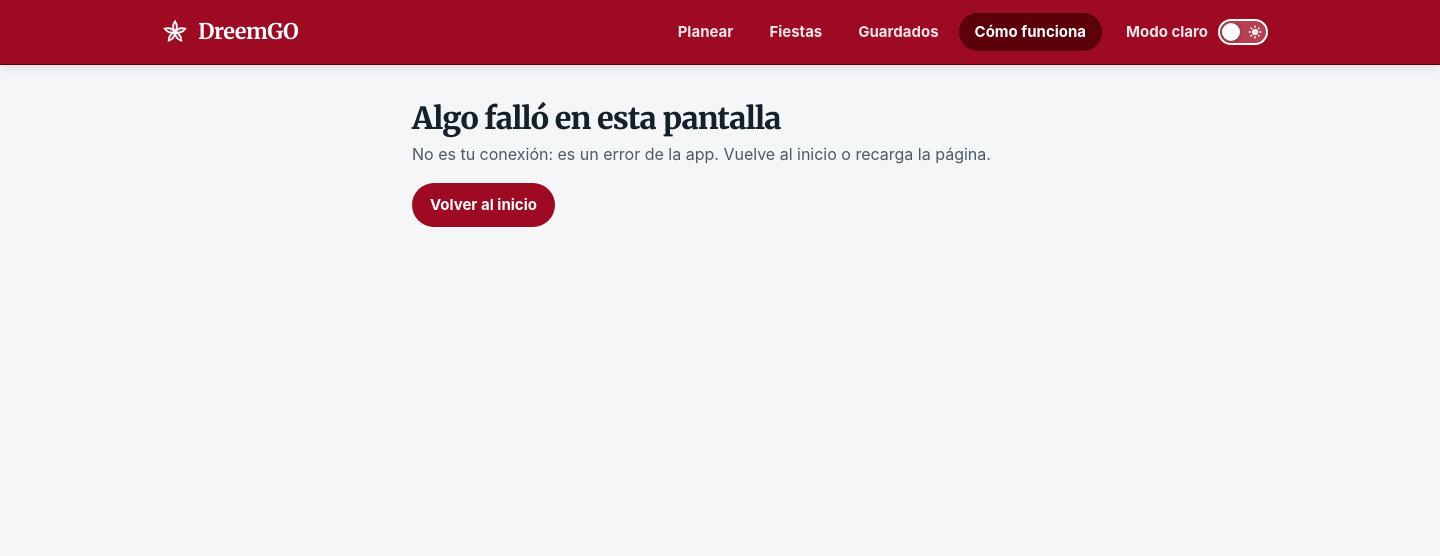
Test: si una pantalla falla, el marco sigue en pie y las demás siguen andando
Expected: the heading "Algo falló en esta pantalla" is shown, [412,99,781,137]
Click the link "Guardados". click: (898, 32)
box: [858,22,939,41]
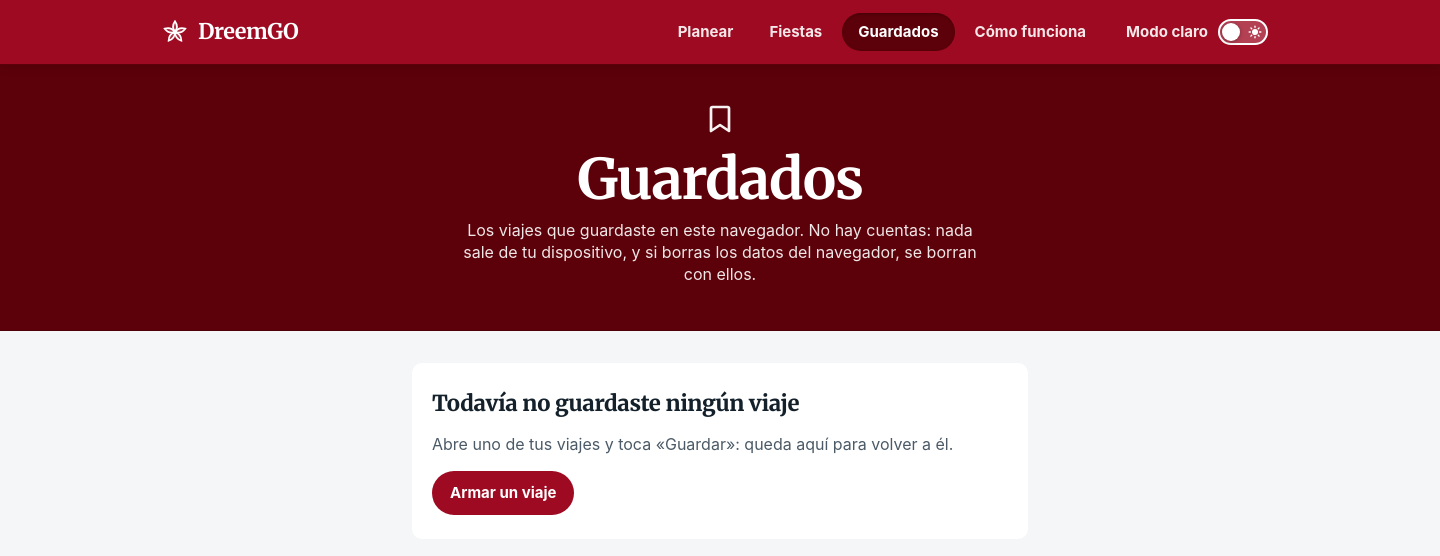
Expected: the heading "Guardados" is shown, [577,149,863,211]
